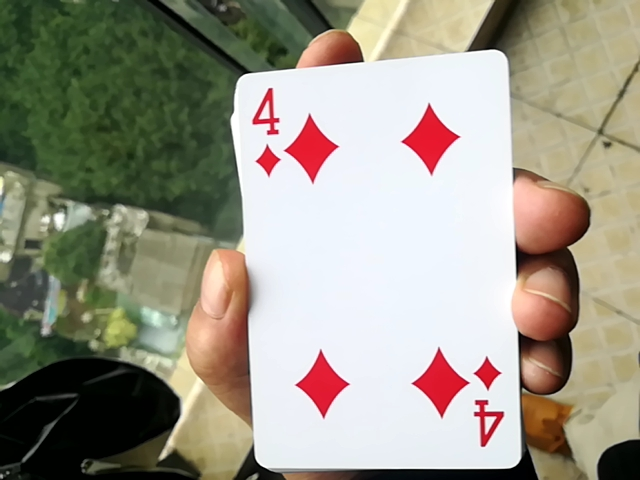fk 4: (224, 36, 517, 473)
